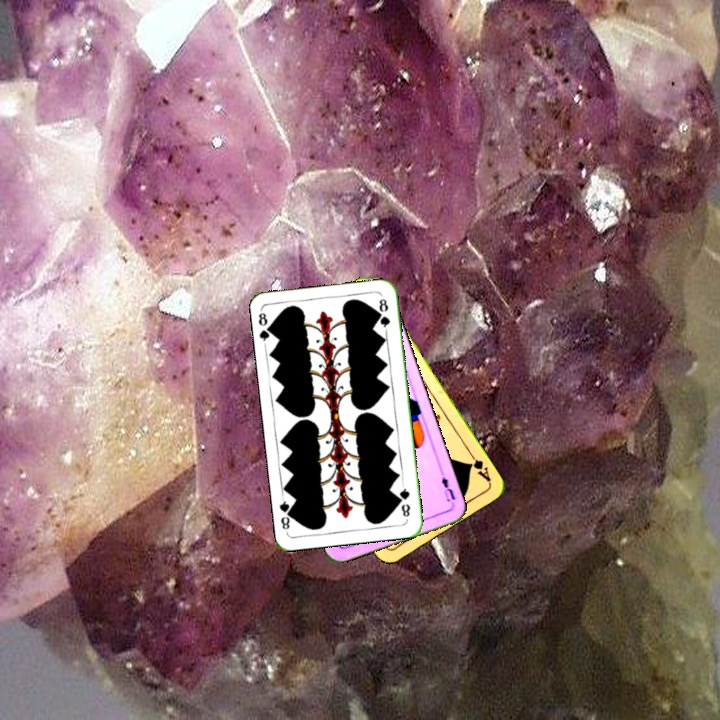EU: (435, 468, 458, 507)
G8: (254, 307, 276, 347), (395, 481, 413, 520)
GA: (465, 448, 494, 484)
